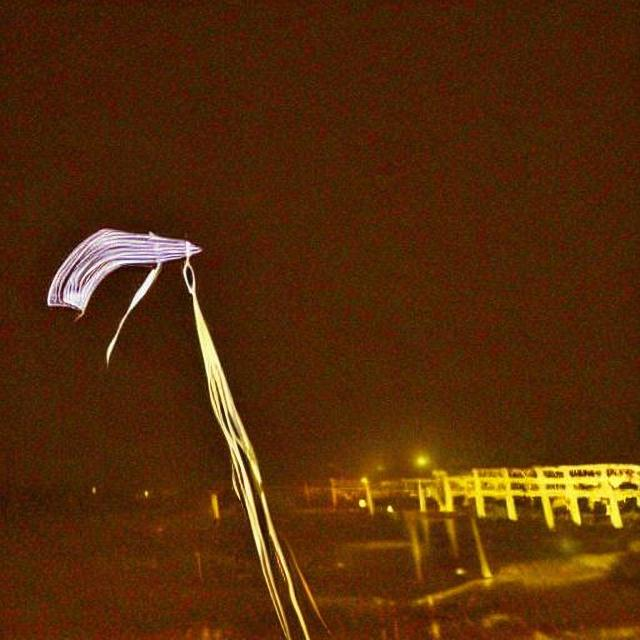floating object: (47, 227, 205, 352)
